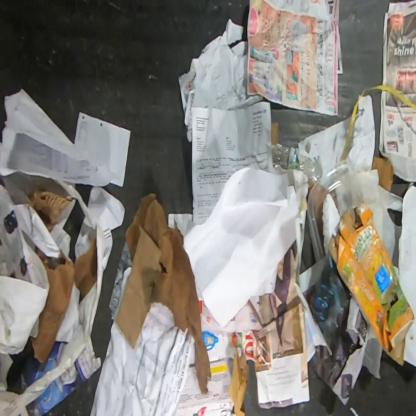cardboard: (330, 202, 414, 364), (116, 226, 162, 348), (28, 188, 70, 232), (229, 348, 250, 416), (371, 156, 393, 192), (271, 121, 279, 144)
rigid_plastic: (307, 160, 359, 263), (310, 267, 352, 390), (272, 143, 324, 187)
